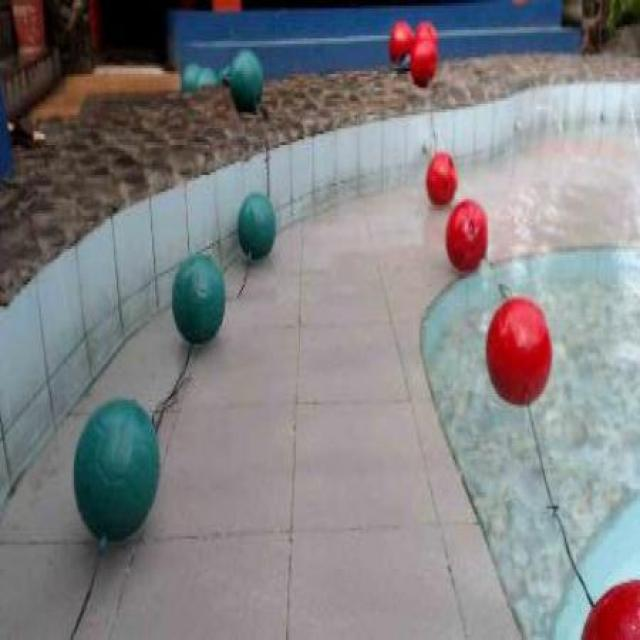buoy: (71, 398, 159, 544), (484, 294, 550, 406), (172, 252, 226, 344), (442, 201, 487, 275), (237, 191, 274, 257), (228, 51, 261, 113), (425, 151, 455, 210), (409, 33, 436, 88)
